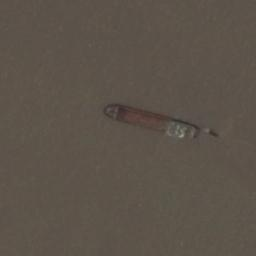boat: (101, 103, 201, 140)
